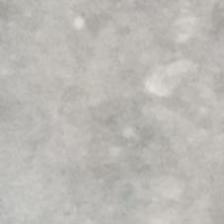Non_Crack: (31, 50, 188, 173)
